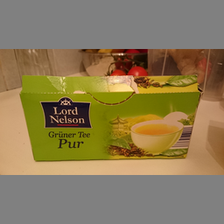tea: (18, 74, 202, 162)
